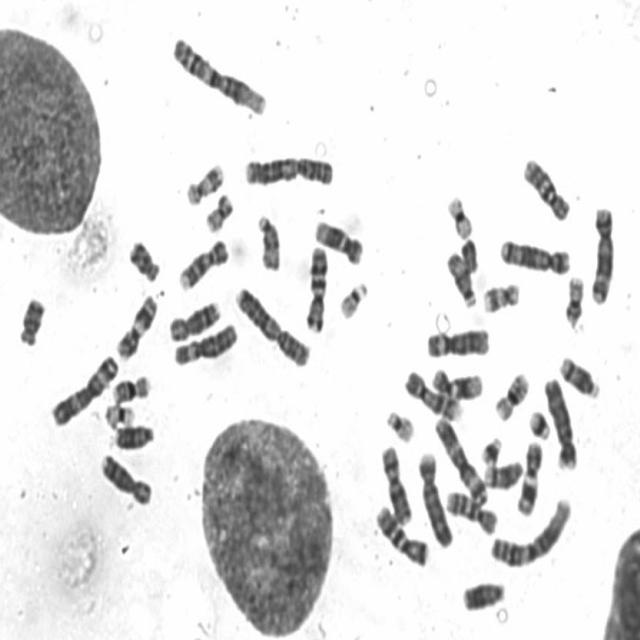A1: (169, 31, 269, 119), (487, 493, 573, 569)
A2: (232, 282, 311, 369), (241, 150, 335, 188)
A3: (48, 350, 119, 428), (432, 413, 488, 508)
B4: (416, 447, 455, 549), (542, 372, 578, 472)
B5: (587, 202, 617, 306), (497, 234, 572, 275)
C10: (520, 153, 572, 225), (442, 487, 498, 537)
C11: (114, 290, 158, 362), (513, 438, 543, 519)
C12: (312, 214, 364, 265), (430, 363, 486, 403)
C6: (171, 318, 239, 368), (425, 326, 492, 360)
C7: (372, 501, 430, 569), (303, 240, 328, 335)
C8: (97, 448, 153, 508), (164, 295, 223, 345)
C9: (401, 366, 464, 422), (176, 233, 230, 292)
D13: (459, 576, 506, 614), (112, 420, 155, 451)
D14: (556, 352, 600, 400), (481, 457, 524, 491)
D15: (444, 248, 478, 309), (255, 210, 282, 273)
E16: (491, 370, 530, 424), (110, 373, 151, 404)
E17: (184, 158, 226, 207), (479, 278, 521, 316)
E18: (125, 236, 162, 284), (16, 293, 47, 348)
F19: (444, 192, 474, 240), (102, 401, 137, 429)
F20: (562, 273, 586, 332), (202, 191, 234, 235)
G21: (526, 406, 551, 442), (479, 433, 504, 467)
G22: (338, 277, 370, 320), (383, 406, 415, 444)
X: (379, 442, 413, 524)
Y: (458, 236, 480, 270)
